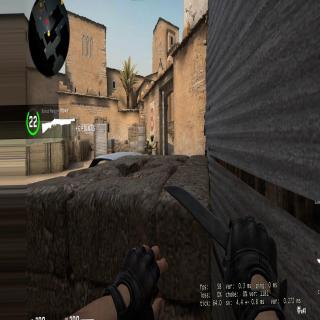CT-Body: (145, 132, 158, 154)
CT-Head: (150, 132, 154, 141)
